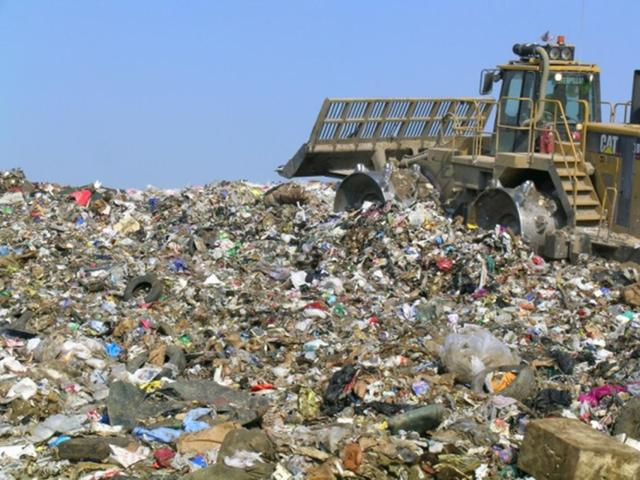garbage: (7, 209, 472, 468)
